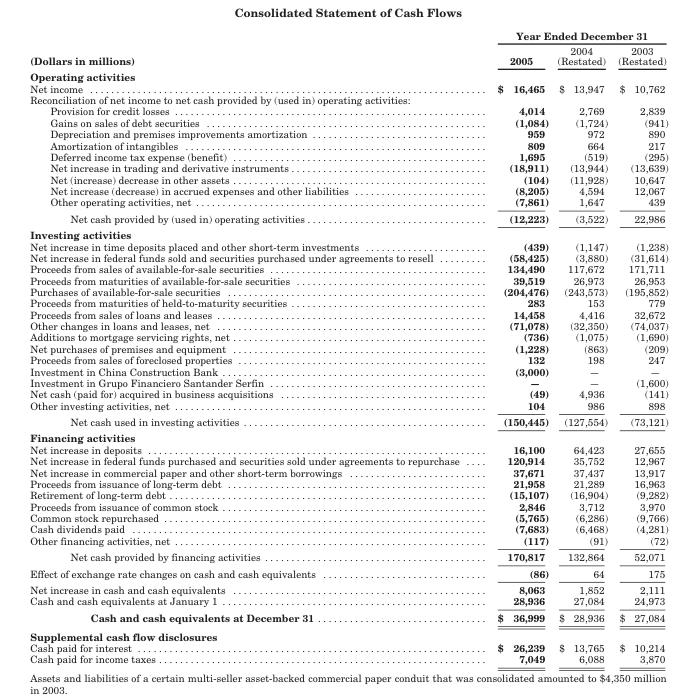table: (29, 28, 667, 664)
table column: (29, 28, 477, 664), (477, 28, 552, 664), (552, 28, 612, 664), (612, 28, 667, 664)
table column header: (29, 28, 667, 68)
table projected row header: (29, 626, 667, 641), (29, 68, 667, 82), (29, 226, 667, 240), (29, 429, 667, 443), (29, 93, 667, 104)
table row: (29, 42, 667, 68), (29, 608, 667, 626), (29, 209, 667, 226), (29, 564, 667, 581), (29, 413, 667, 429), (29, 548, 667, 564), (29, 626, 667, 641), (29, 28, 667, 42), (29, 68, 667, 82), (29, 195, 667, 209), (29, 226, 667, 240), (29, 399, 667, 413), (29, 429, 667, 443), (29, 534, 667, 548), (29, 594, 667, 608), (29, 581, 667, 594), (29, 104, 667, 116), (29, 127, 667, 139), (29, 161, 667, 173), (29, 262, 667, 274), (29, 296, 667, 308), (29, 319, 667, 331), (29, 353, 667, 365), (29, 387, 667, 399), (29, 454, 667, 466), (29, 488, 667, 500), (29, 522, 667, 534), (29, 652, 667, 664), (29, 82, 667, 93), (29, 93, 667, 104), (29, 116, 667, 127), (29, 139, 667, 150), (29, 150, 667, 161), (29, 173, 667, 184), (29, 184, 667, 195), (29, 240, 667, 251), (29, 251, 667, 262), (29, 274, 667, 285), (29, 285, 667, 296), (29, 308, 667, 319), (29, 331, 667, 342), (29, 342, 667, 353), (29, 365, 667, 376), (29, 376, 667, 387), (29, 443, 667, 454), (29, 466, 667, 477), (29, 477, 667, 488), (29, 500, 667, 511), (29, 511, 667, 522), (29, 641, 667, 652)
table spanning cell: (29, 28, 477, 68), (477, 28, 667, 42)
